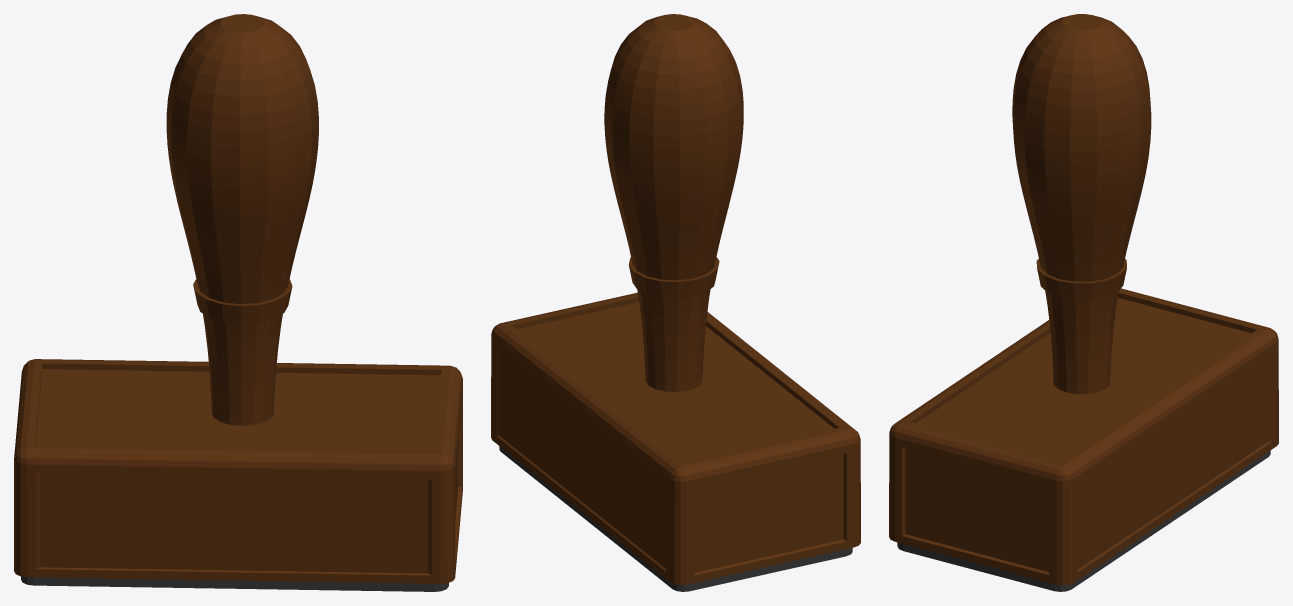
Rendered from Tampon.fbx.
3 views of the same model, side by side, from view 1: azimuth 30°, elevation 25°; view 2: azimuth 150°, elevation 25°; view 3: azimuth 270°, elevation 25° (orthographic). The views are drawn at different scales.
Visible parts, largest first — view 1: Tampon; view 2: Tampon; view 3: Tampon.
Part boxes in pixels (x1,y1,x2,y2): Tampon: [14, 14, 462, 591]; Tampon: [491, 14, 860, 591]; Tampon: [889, 14, 1278, 591].
Size of the model in its own units: 18.81 by 22.1 by 16.29.
